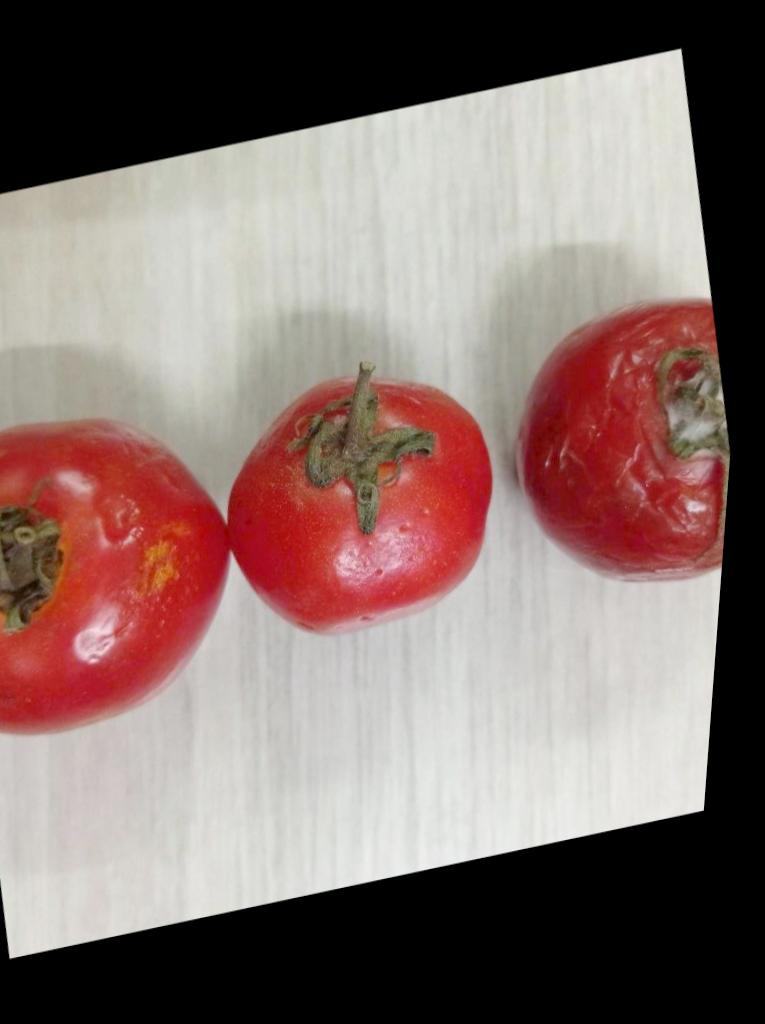bruise_discoloration: (134, 541, 179, 605), (96, 496, 135, 546)
rot_mold_decay: (665, 365, 729, 457)
tomato: (226, 363, 491, 635), (0, 419, 228, 735), (515, 299, 730, 583)
